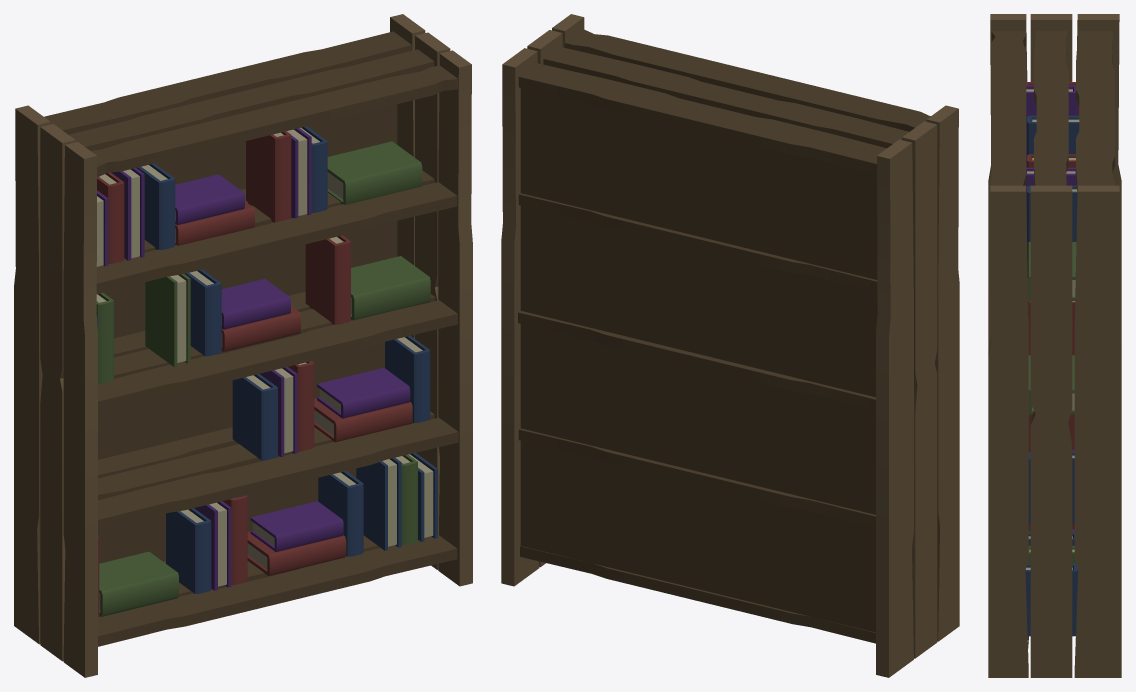
The model's file is Bookcase_Full.glb.
3 views of the same model, side by side, from view 1: azimuth 30°, elevation 25°; view 2: azimuth 150°, elevation 25°; view 3: azimuth 270°, elevation 25° (orthographic). The views are drawn at different scales.
Parts seen in each view (by area): view 1: Bookcase_Full; view 2: Bookcase_Full; view 3: Bookcase_Full.
Part boxes in pixels (box(x1,y1,x2,y2)): Bookcase_Full: box(14, 14, 472, 677); Bookcase_Full: box(501, 14, 959, 677); Bookcase_Full: box(988, 14, 1121, 677).
Bounding box in the file's own units: 208 × 265 × 65.82.
